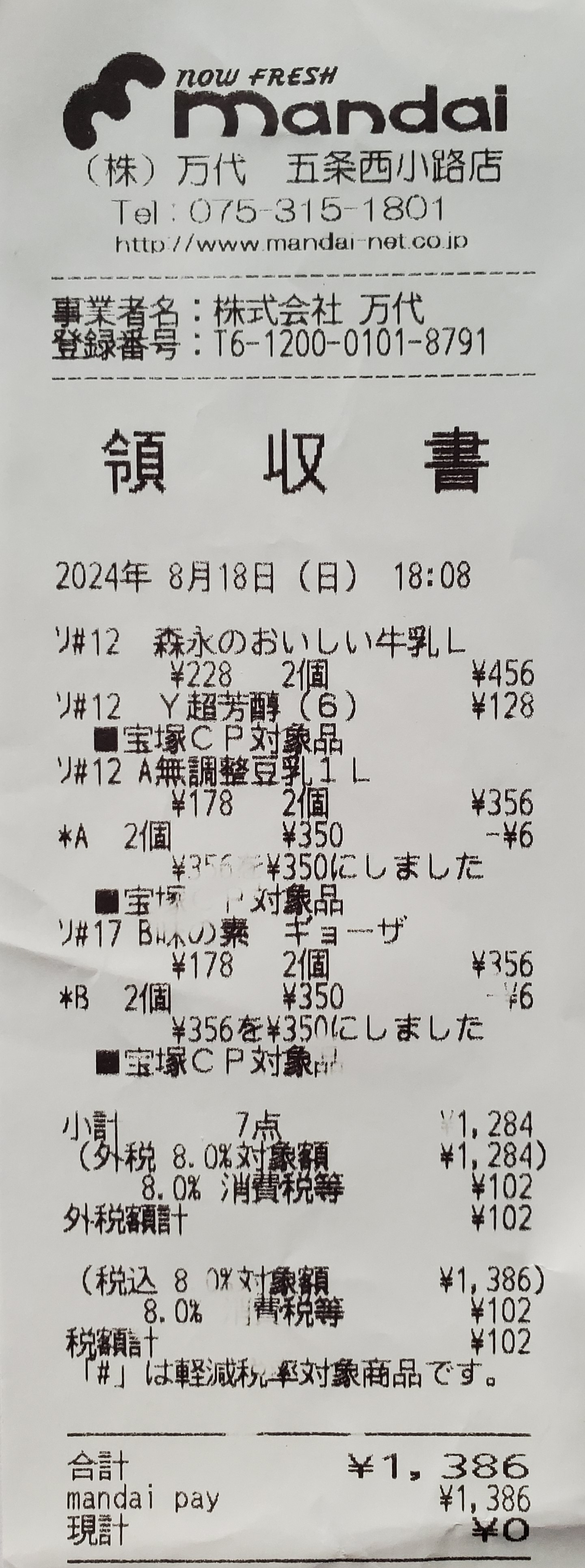Date: (45, 536, 294, 602)
Shopname: (169, 46, 530, 148)
Telnum: (181, 189, 474, 229)
Totalpay: (66, 1440, 540, 1483)
